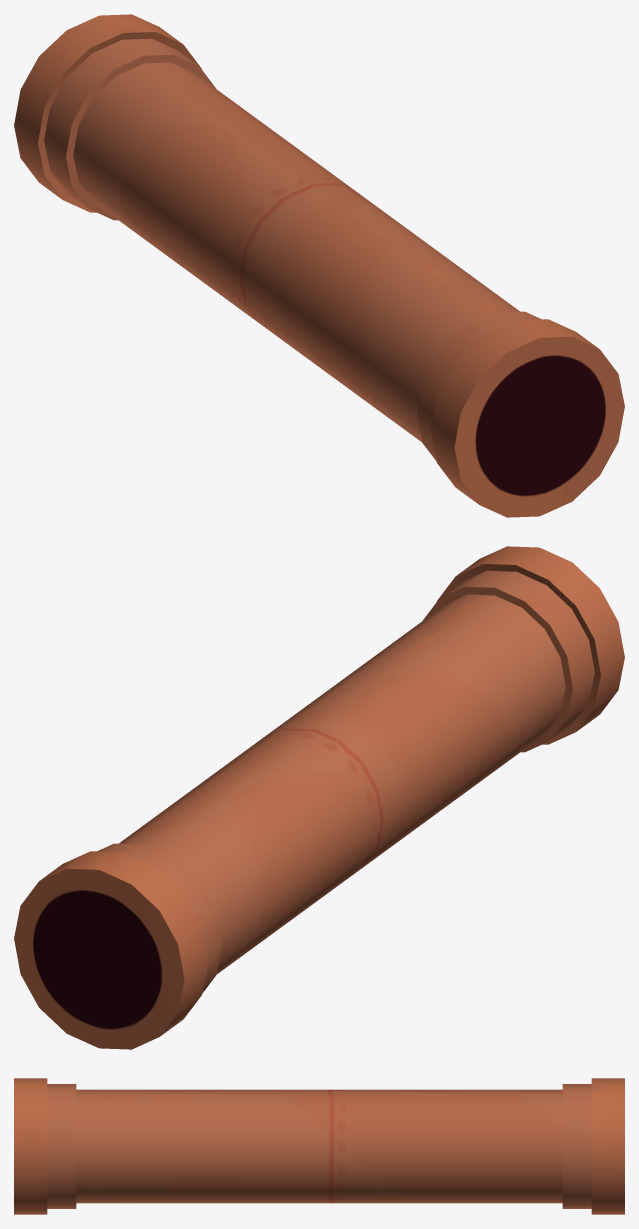
The model's file is pipe.fbx.
3 renders of one model, top to bottom at view 1: azimuth 30°, elevation 25°; view 2: azimuth 150°, elevation 25°; view 3: azimuth 270°, elevation 25°, orthographic. The views are drawn at different scales.
Parts seen in each view (by area): view 1: Cylinder; view 2: Cylinder; view 3: Cylinder.
Part boxes in pixels (left/top/right/bottom): Cylinder: left=14, top=14, right=624, bottom=517; Cylinder: left=14, top=546, right=624, bottom=1049; Cylinder: left=14, top=1078, right=624, bottom=1214.
Size of the model in its own units: 241 by 241 by 1076.
